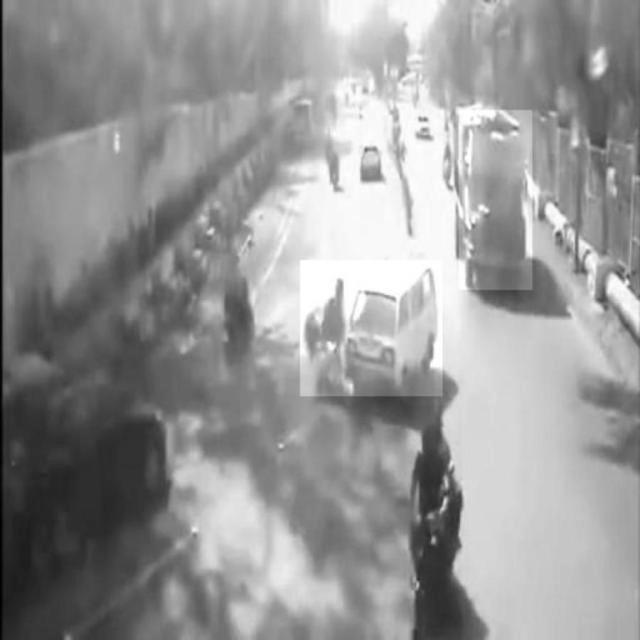accident: (300, 260, 442, 396)
vehicle: (459, 111, 532, 291), (404, 406, 462, 628)
